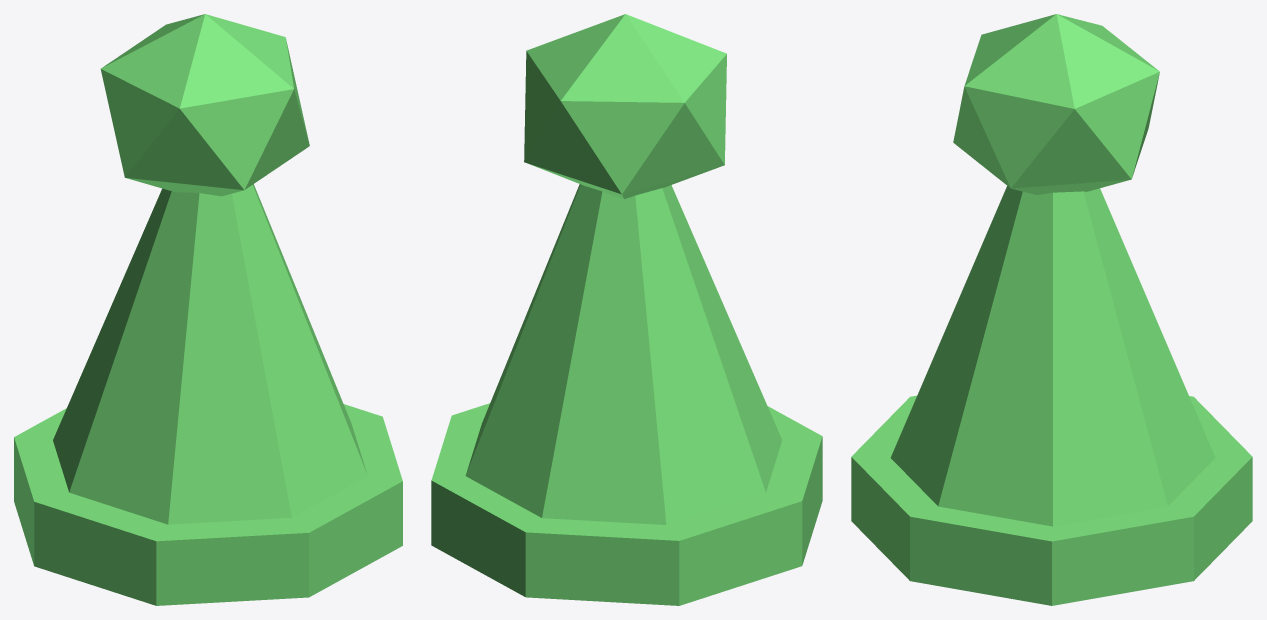
The model's file is pawn-green.glb.
The picture shows the model from 3 angles, left to right: view 1: azimuth 30°, elevation 25°; view 2: azimuth 150°, elevation 25°; view 3: azimuth 270°, elevation 25°; orthographic projection.
Parts seen in each view (by area): view 1: Cylinder.002; view 2: Cylinder.002; view 3: Cylinder.002.
Part boxes in pixels (<box>): Cylinder.002: <box>14,14,402,605</box>; Cylinder.002: <box>431,14,822,605</box>; Cylinder.002: <box>851,14,1252,605</box>.
Size of the model in its own units: 10914 by 15210 by 10914.
